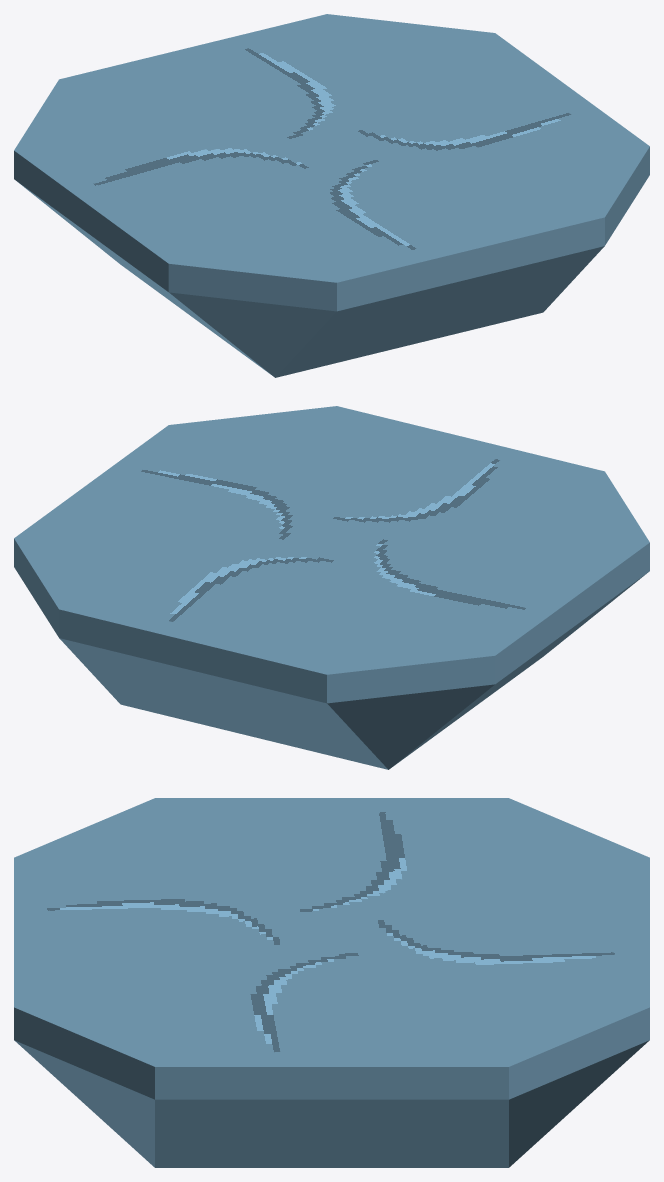
The model's file is derotation token.glb.
The picture shows the model from 3 angles, top to bottom: view 1: azimuth 30°, elevation 25°; view 2: azimuth 150°, elevation 25°; view 3: azimuth 270°, elevation 25°; orthographic projection. The views are drawn at different scales.
Visible parts, largest first — view 1: DerotationToken-col; view 2: DerotationToken-col; view 3: DerotationToken-col.
Part boxes in pixels (x1,y1,x2,y2): DerotationToken-col: [14, 14, 649, 377]; DerotationToken-col: [14, 406, 649, 769]; DerotationToken-col: [14, 798, 649, 1167].
Bounding box in the file's own units: 0.2 × 0.0557 × 0.2.
2 materials, 2 textured.
